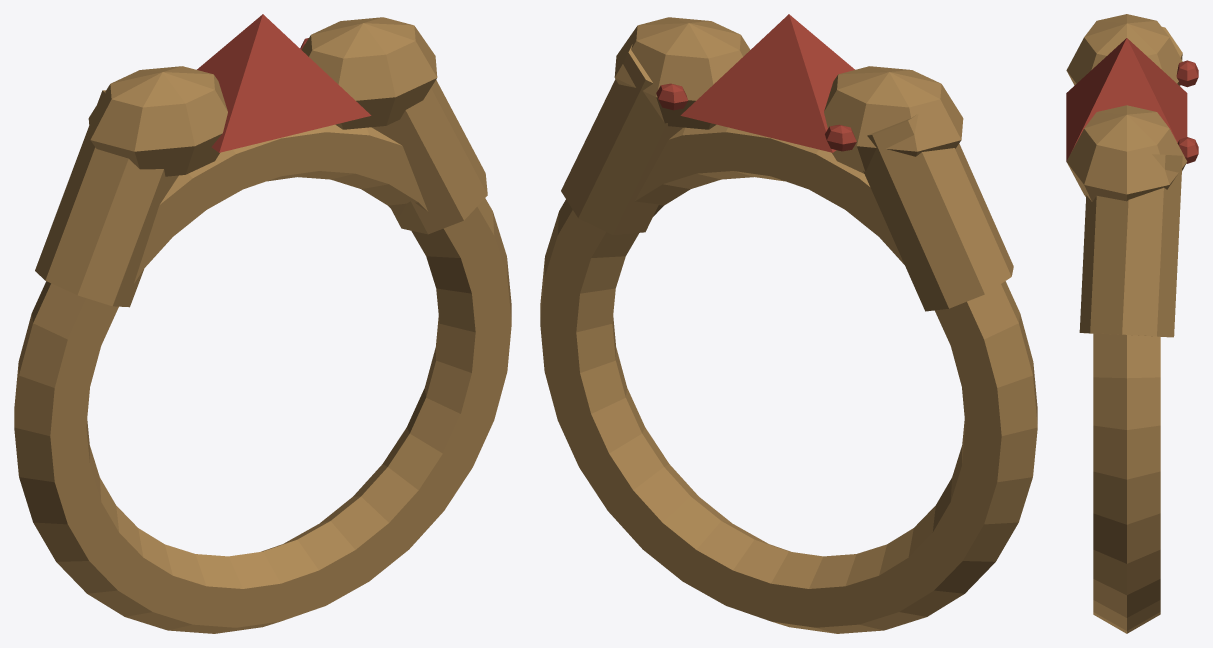
File: AE_Item_DrakeOath.fbx
3 renders of one model, left to right at view 1: azimuth 30°, elevation 25°; view 2: azimuth 150°, elevation 25°; view 3: azimuth 270°, elevation 25°, orthographic. The views are drawn at different scales.
Visible parts, largest first — view 1: AE_Item_DrakeOath; view 2: AE_Item_DrakeOath; view 3: AE_Item_DrakeOath.
Boxes of the visible parts, <box> form: AE_Item_DrakeOath: <box>14,14,511,633</box>; AE_Item_DrakeOath: <box>540,14,1037,633</box>; AE_Item_DrakeOath: <box>1066,14,1198,633</box>.
Bounding box in the file's own units: 0.124 × 0.146 × 0.0306.
